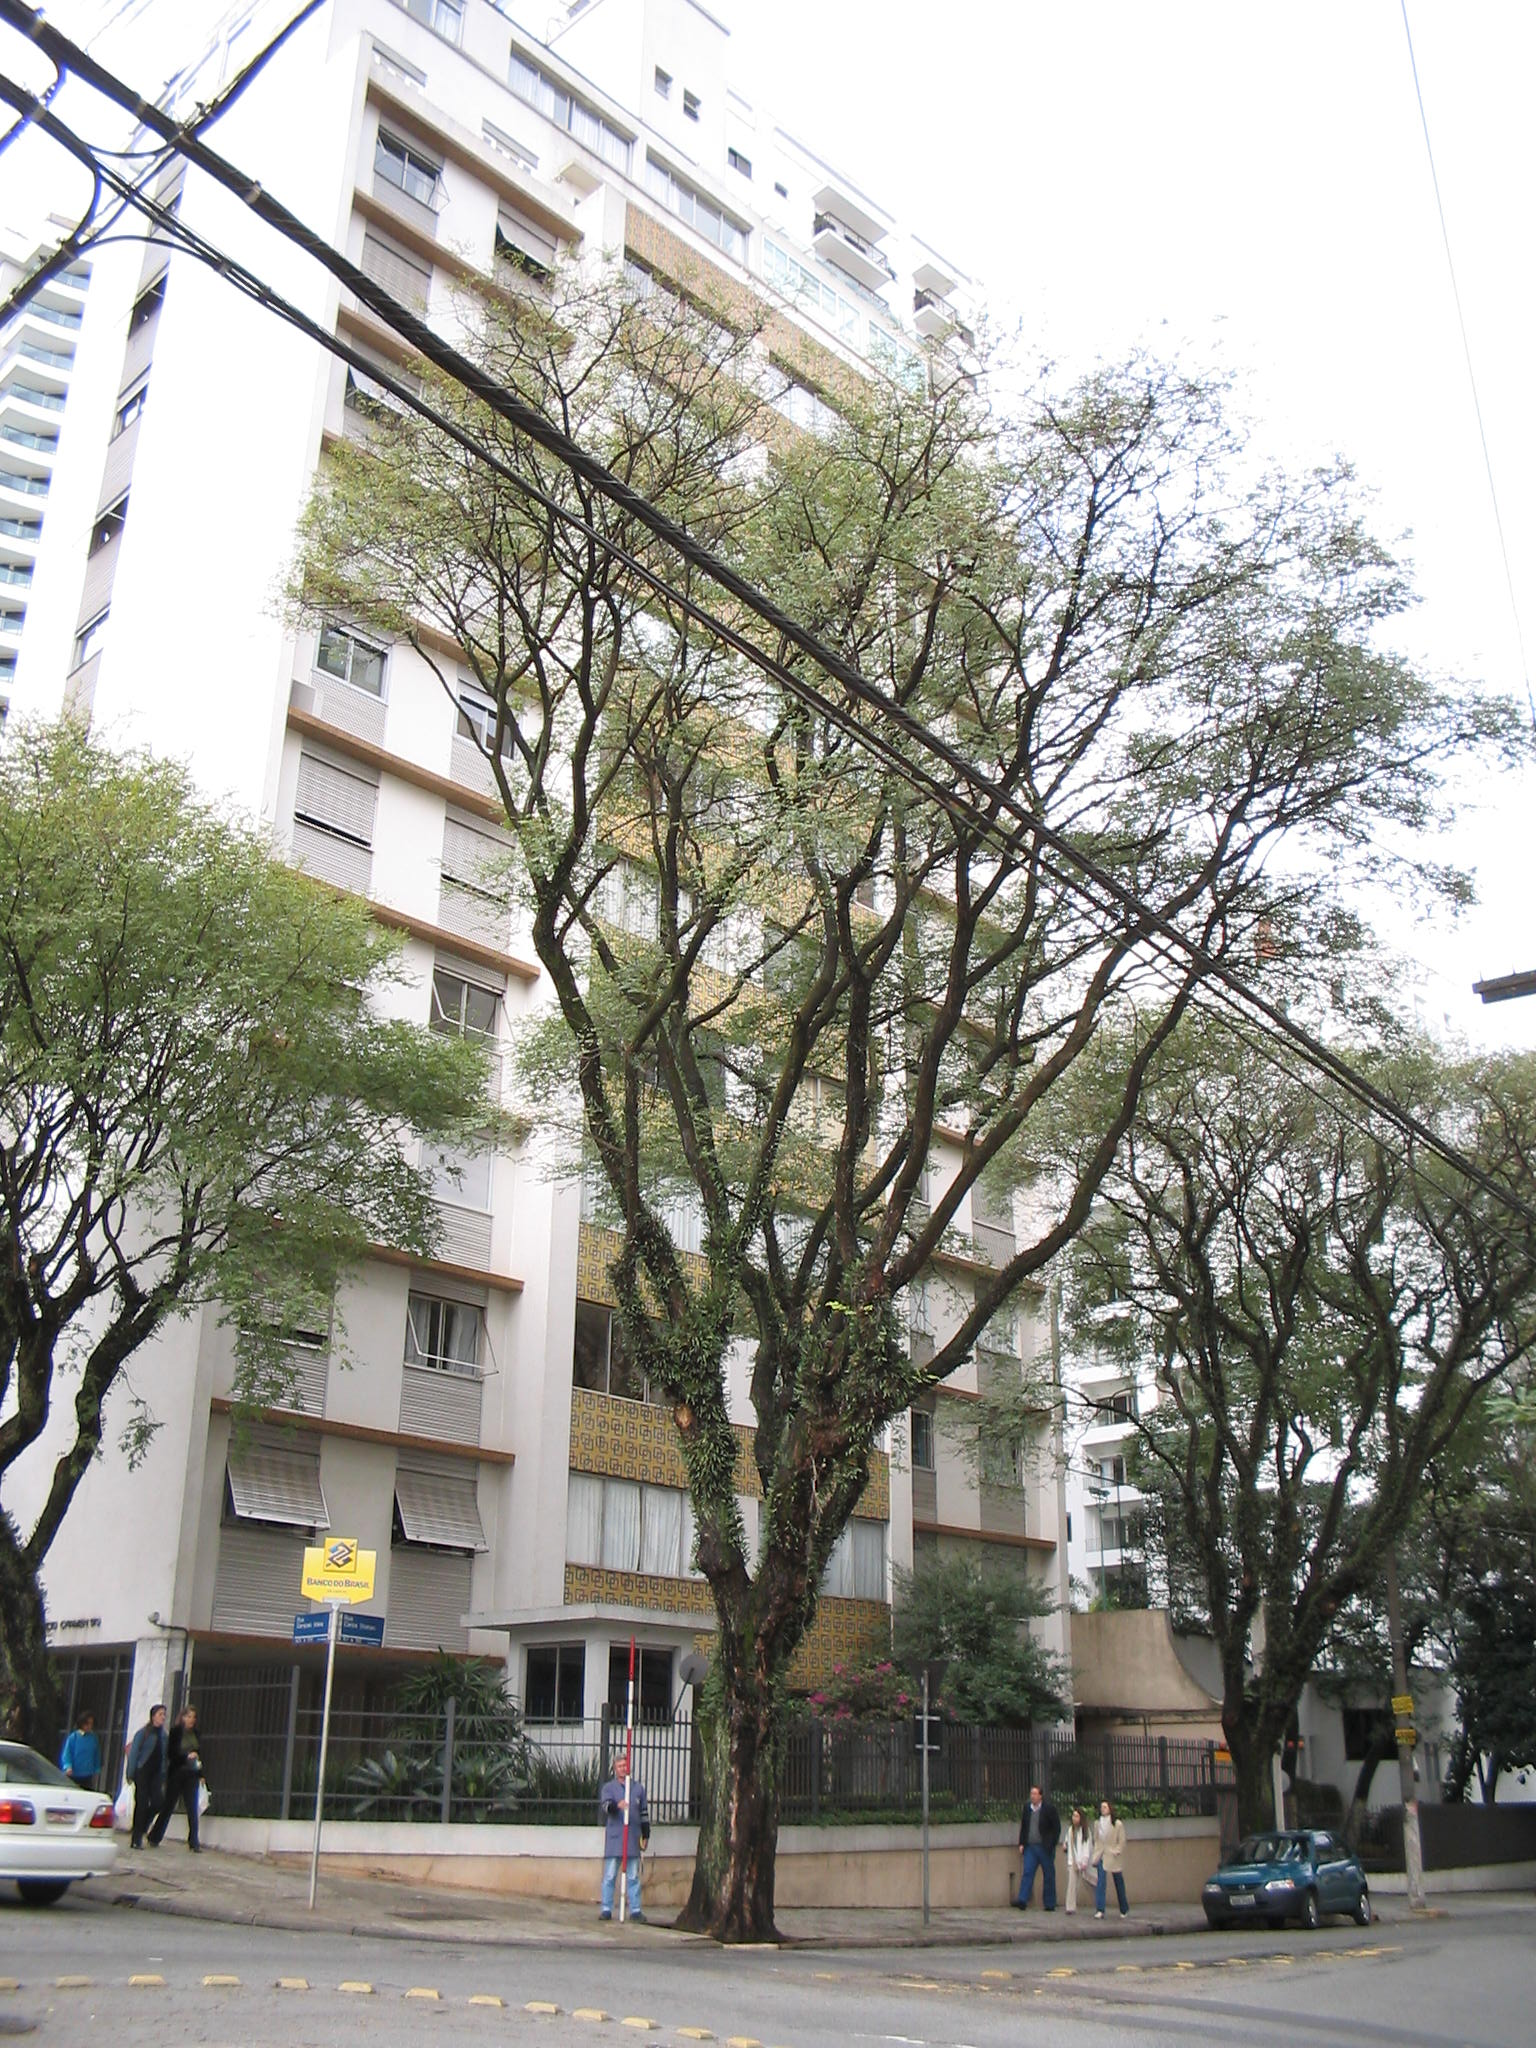stem: (671, 1635, 828, 1940)
stick: (603, 1648, 645, 1916)
tree: (294, 248, 1534, 1943)
